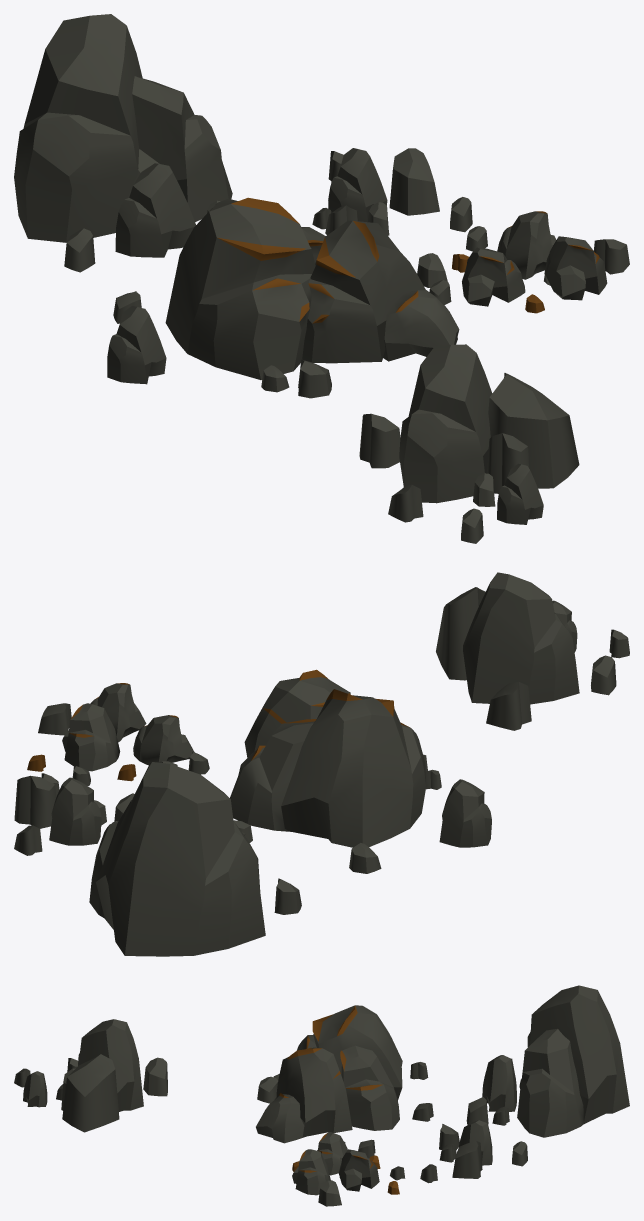
Rendered from Rocks2.fbx.
3 renders of one model, top to bottom at view 1: azimuth 30°, elevation 25°; view 2: azimuth 150°, elevation 25°; view 3: azimuth 270°, elevation 25°, orthographic. The views are drawn at different scales.
Visible parts, largest first — view 1: Object025, Object008, Object028, Object009, Rock, Object021, Object015, Object002, Object001, Object020, Object030, Object029 (+5 smaller); view 2: Object025, Object008, Object028, Object020, Rock, Object002, Object015, Object001, Object029, Object021, Object022, Object032 (+3 smaller); view 3: Object025, Object008, Object028, Object009, Object020, Object021, Object001, Object002, Object029, Object015, Object030, Object022 (+5 smaller).
Part boxes in pixels (<box>): Object025: <box>165,197,459,379</box>; Object008: <box>14,14,232,242</box>; Object028: <box>399,344,579,503</box>; Object009: <box>115,163,195,257</box>; Rock: <box>107,306,166,384</box>; Object021: <box>544,236,607,300</box>; Object015: <box>462,247,525,306</box>; Object002: <box>328,148,387,222</box>; Object001: <box>389,148,439,215</box>; Object020: <box>497,211,556,279</box>; Object030: <box>497,463,543,524</box>; Object029: <box>359,413,400,468</box>; Object025: <box>230,669,425,847</box>; Object008: <box>89,762,265,956</box>; Object028: <box>436,572,579,704</box>; Object020: <box>62,703,120,771</box>; Rock: <box>439,779,491,847</box>; Object002: <box>49,777,101,845</box>; Object015: <box>133,715,194,765</box>; Object001: <box>14,775,56,828</box>; Object029: <box>486,681,531,730</box>; Object021: <box>90,683,146,742</box>; Object022: <box>38,703,71,735</box>; Object032: <box>591,655,616,695</box>; Object025: <box>256,1005,402,1143</box>; Object008: <box>517,985,629,1137</box>; Object028: <box>61,1019,143,1132</box>; Object009: <box>482,1055,516,1111</box>; Object020: <box>338,1149,379,1191</box>; Object021: <box>292,1149,330,1195</box>; Object001: <box>452,1141,482,1178</box>; Object002: <box>459,1120,492,1165</box>; Object029: <box>143,1057,167,1096</box>; Object015: <box>317,1132,347,1175</box>; Object030: <box>23,1071,47,1107</box>; Object022: <box>318,1180,341,1206</box>.
Size of the model in its own units: 158 by 56.63 by 263.
